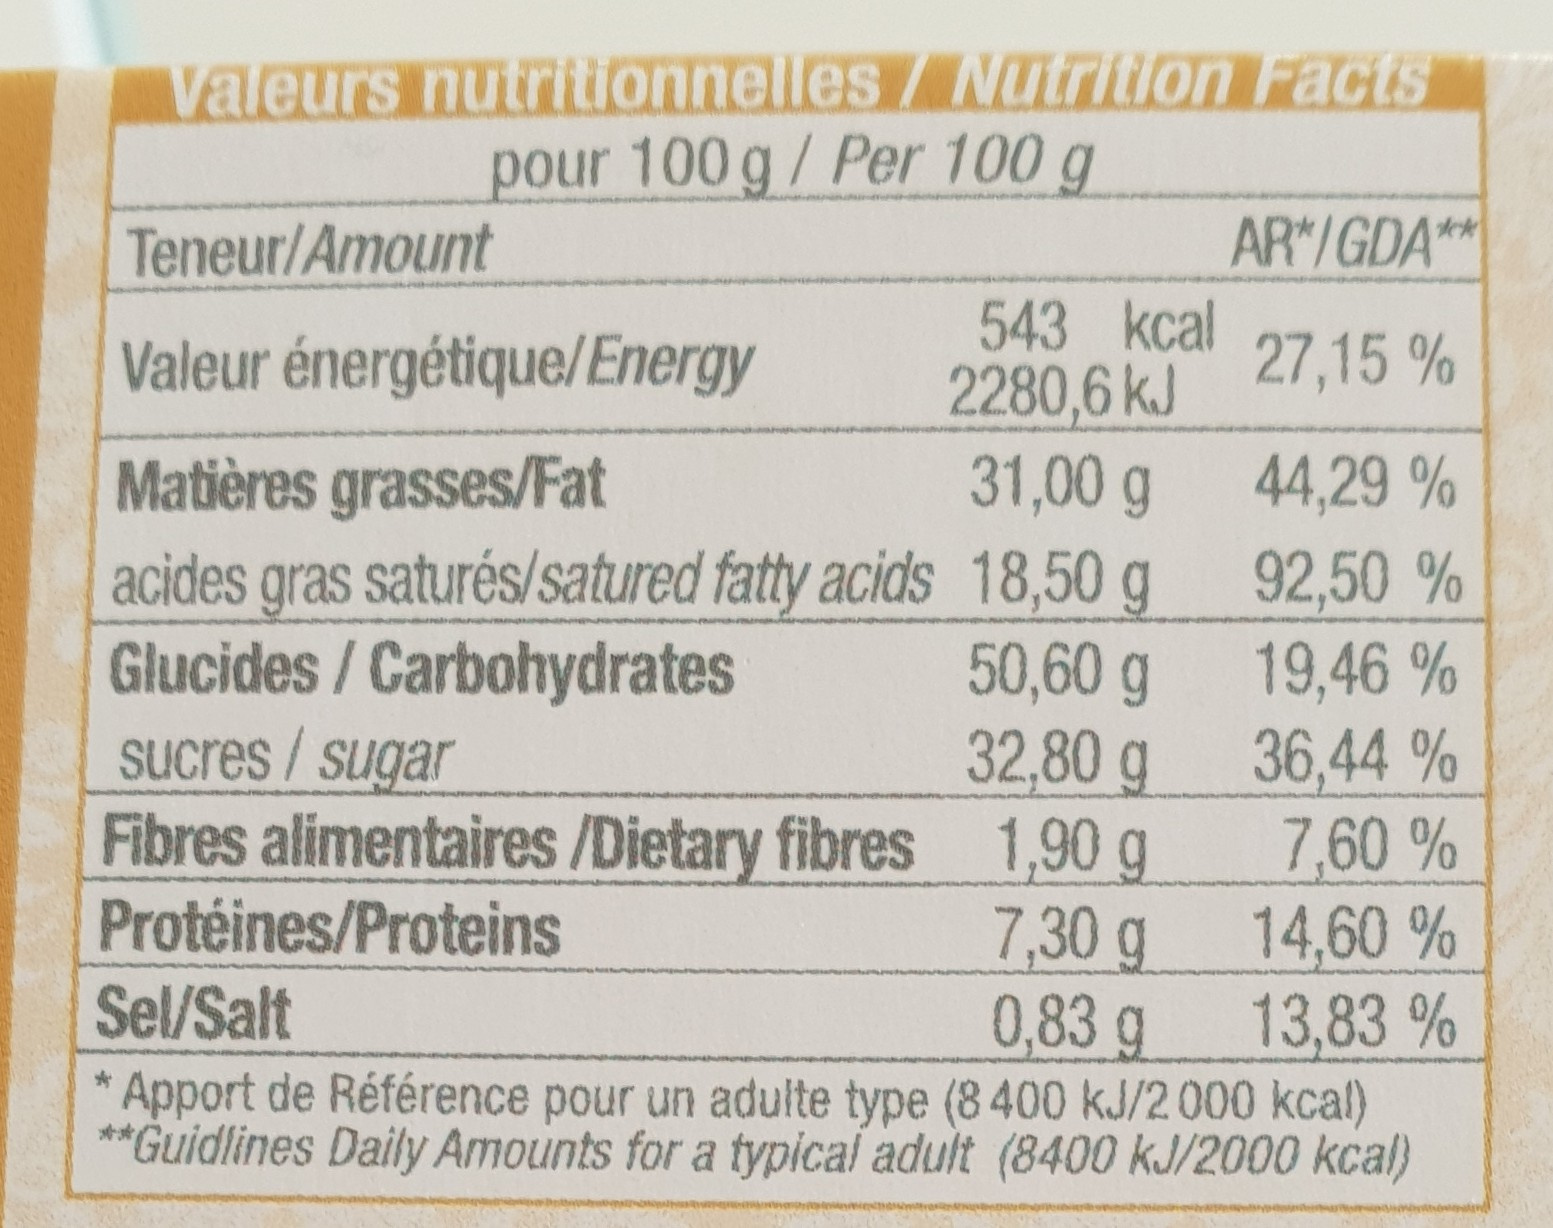column: (93, 223, 937, 1040), (1232, 216, 1485, 1054), (950, 298, 1214, 1055)
line: (121, 303, 1461, 420), (89, 1067, 1412, 1185), (96, 983, 1464, 1057), (105, 809, 1456, 878), (108, 453, 1458, 519), (118, 725, 1458, 792), (113, 640, 1458, 706), (98, 898, 1460, 961), (111, 553, 1464, 613), (121, 219, 1479, 274), (163, 62, 1440, 111), (487, 135, 1098, 194)
table: (66, 59, 1492, 1207)
